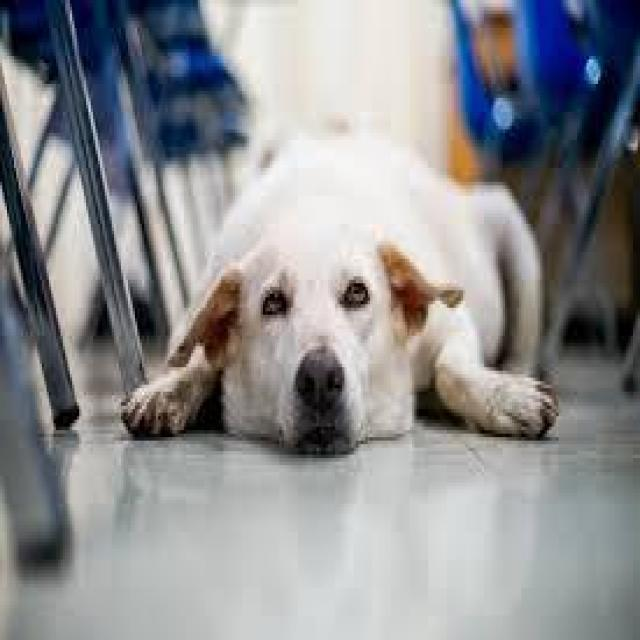Dog: (115, 35, 577, 509)
